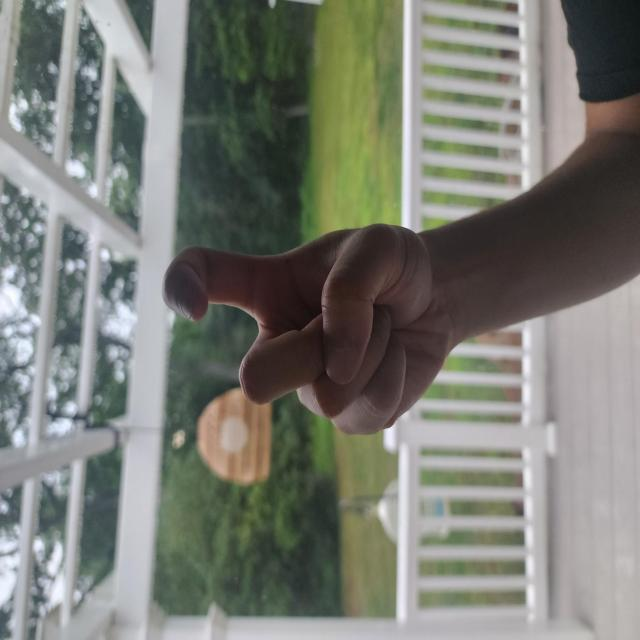X: (150, 208, 316, 620)
